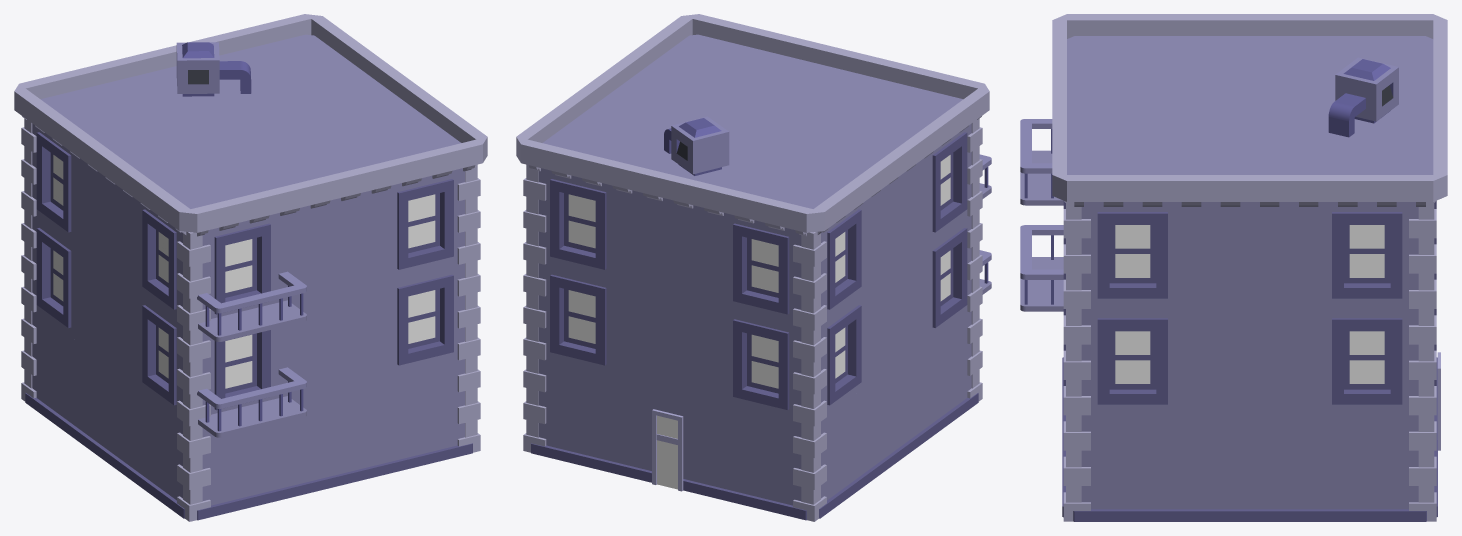
File: SmallBuilding1.glb
3 views of the same model, side by side, from view 1: azimuth 30°, elevation 25°; view 2: azimuth 150°, elevation 25°; view 3: azimuth 270°, elevation 25° (orthographic). The views are drawn at different scales.
Parts seen in each view (by area): view 1: window_closed (×8), roof_flat (×9), wall_border (×6), wall (×4), cornice_extended (×12), quoin_long (×9), balcony_basic (×2), detail_ventSmall; view 2: window_closed (×8), roof_flat (×9), wall_border (×6), wall (×4), cornice_extended (×12), quoin_long (×9), detail_ventSmall, door; view 3: roof_flat (×9), window_closed (×4), wall_border (×3), wall (×2), cornice_extended (×12), quoin_long (×6), balcony_basic (×2), detail_ventSmall.
Part boxes in pixels (x1,y1,x2,y2): window_closed (×8): [32, 123, 464, 414]; roof_flat (×9): [41, 34, 461, 208]; wall_border (×6): [25, 311, 472, 520]; wall (×4): [81, 160, 379, 399]; cornice_extended (×12): [14, 14, 487, 236]; quoin_long (×9): [21, 118, 480, 521]; balcony_basic (×2): [197, 271, 306, 437]; detail_ventSmall: [176, 42, 251, 96]; window_closed (×8): [539, 123, 971, 419]; roof_flat (×9): [542, 34, 962, 208]; wall_border (×6): [531, 311, 978, 520]; wall (×4): [624, 160, 922, 400]; cornice_extended (×12): [516, 14, 989, 236]; quoin_long (×9): [523, 118, 982, 521]; detail_ventSmall: [664, 116, 729, 175]; door: [652, 409, 683, 491]; roof_flat (×9): [1067, 36, 1433, 174]; window_closed (×4): [1081, 202, 1418, 413]; wall_border (×3): [1062, 414, 1437, 521]; wall (×2): [1191, 202, 1308, 413]; cornice_extended (×12): [1052, 14, 1447, 206]; quoin_long (×6): [1063, 202, 1436, 521]; balcony_basic (×2): [1020, 119, 1063, 311]; detail_ventSmall: [1328, 57, 1398, 137].
Size of the model in its own units: 3.37 by 3.55 by 3.65.
